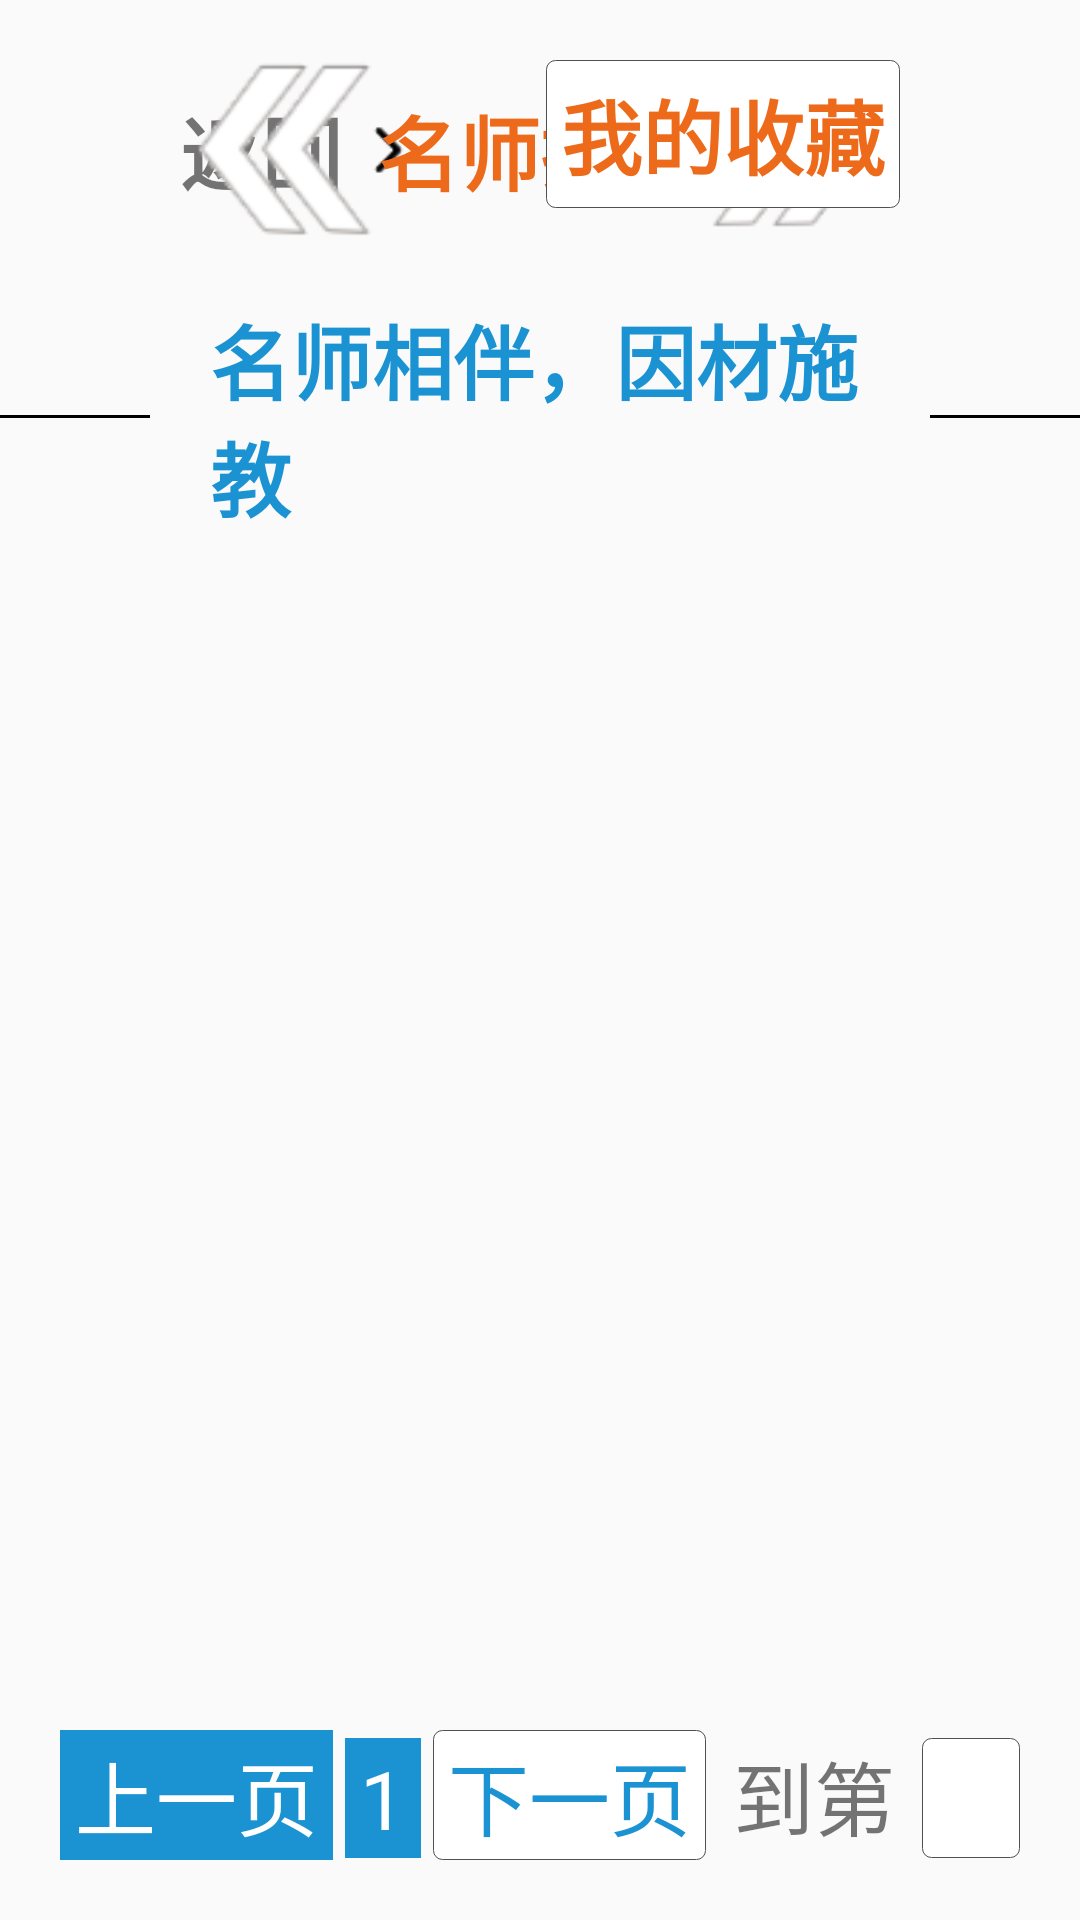

Point at icon controls on the screen. Image size 1080w x 1920h, points as (x=x, y=y).
left: (x=277, y=150)
